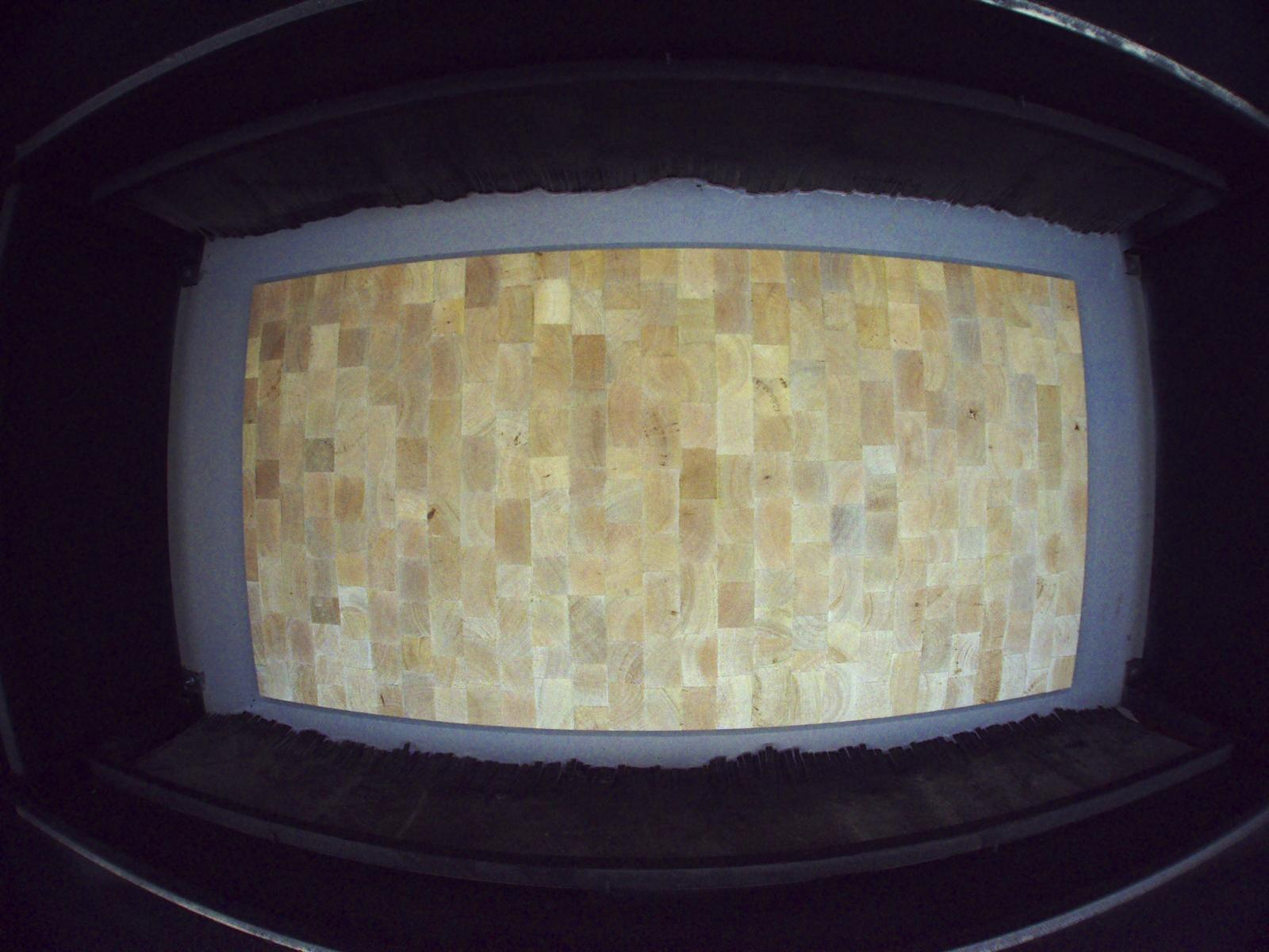nudillo: (968, 408, 979, 421)
